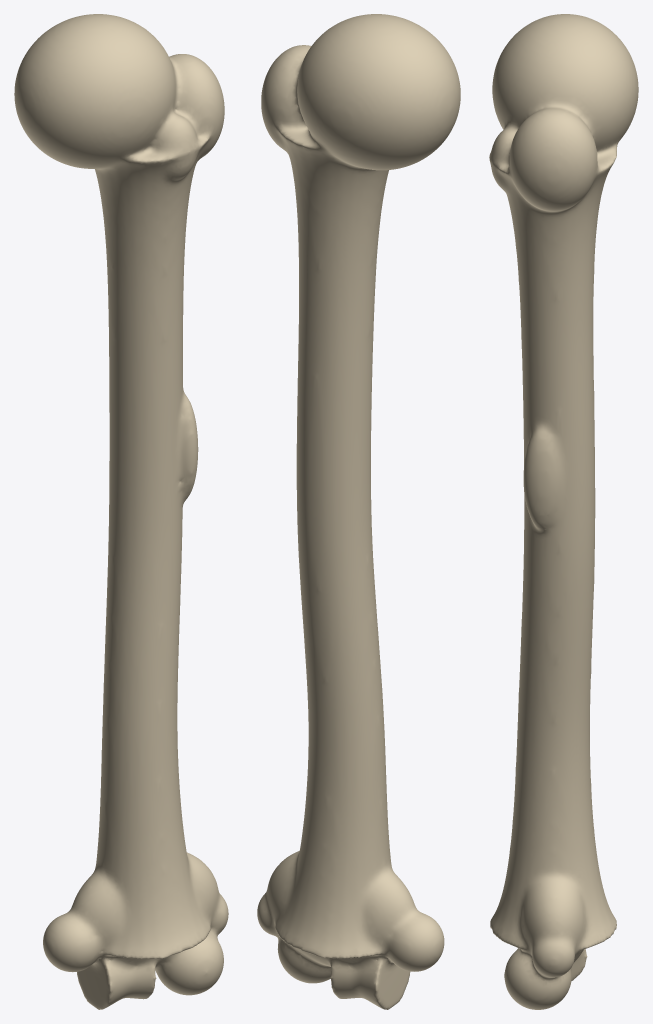
Rendered from humerus-study-v2-macro-ultra.glb.
3 views of the same model, side by side, from view 1: azimuth 30°, elevation 25°; view 2: azimuth 150°, elevation 25°; view 3: azimuth 270°, elevation 25° (orthographic). The views are drawn at different scales.
Parts seen in each view (by area): view 1: humerus-continuous; view 2: humerus-continuous; view 3: humerus-continuous.
Part boxes in pixels (left/top/right/bottom): humerus-continuous: left=14, top=14, right=228, bottom=1009; humerus-continuous: left=257, top=14, right=460, bottom=1009; humerus-continuous: left=489, top=14, right=638, bottom=1009.
Size of the model in its own units: 6.37 by 30.57 by 4.36.
